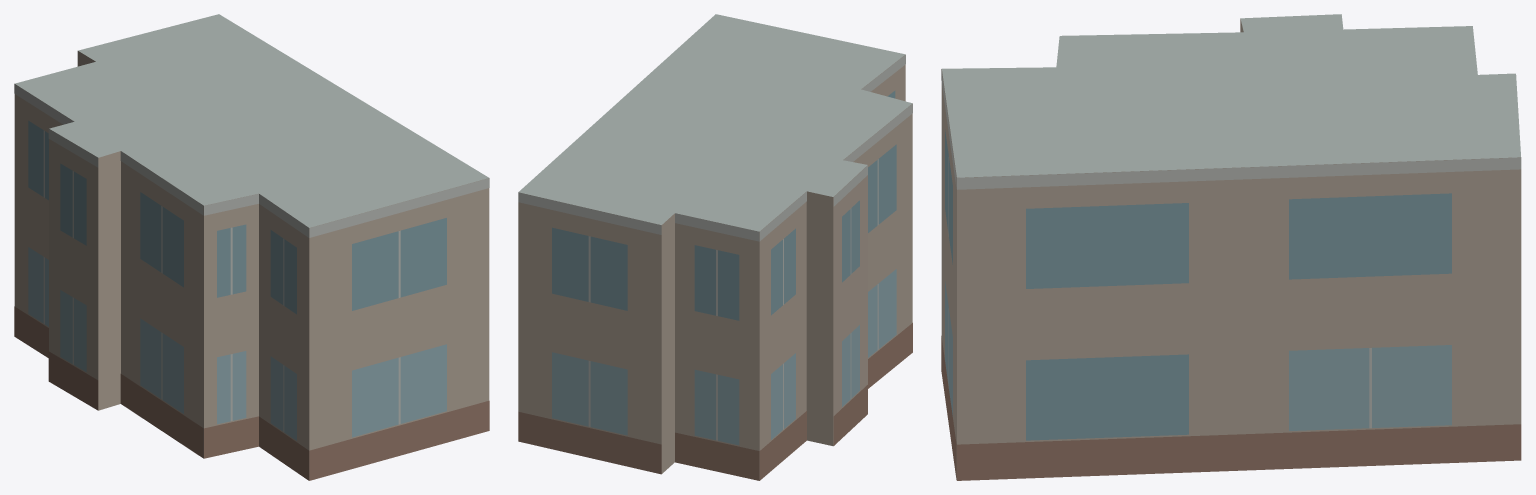
The model's file is survey-upis-32656047.glb.
The picture shows the model from 3 angles, left to right: view 1: azimuth 30°, elevation 25°; view 2: azimuth 150°, elevation 25°; view 3: azimuth 270°, elevation 25°; orthographic projection. The views are drawn at different scales.
Parts seen in each view (by area): view 1: survey-upis-32656047.tmp; view 2: survey-upis-32656047.tmp; view 3: survey-upis-32656047.tmp.
Part boxes in pixels (<box>): survey-upis-32656047.tmp: <box>14,14,489,480</box>; survey-upis-32656047.tmp: <box>518,14,912,480</box>; survey-upis-32656047.tmp: <box>941,14,1521,480</box>.
Size of the model in its own units: 7.08 by 6.1 by 10.58.
